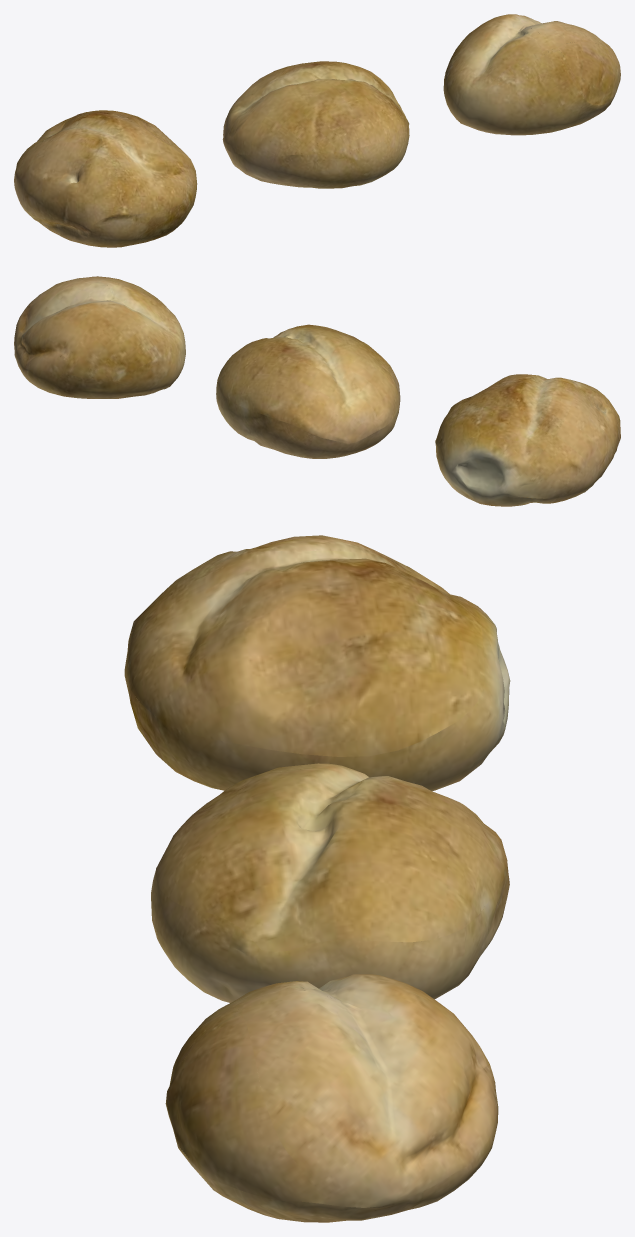
Rendered from hamburger_buns.gltf.
3 views of the same model, one above another, from view 1: azimuth 30°, elevation 25°; view 2: azimuth 150°, elevation 25°; view 3: azimuth 270°, elevation 25° (orthographic). The views are drawn at different scales.
Parts seen in each view (by area): view 1: hamburger_buns_01, hamburger_buns_02, hamburger_buns_03; view 2: hamburger_buns_01, hamburger_buns_02, hamburger_buns_03; view 3: hamburger_buns_01, hamburger_buns_02, hamburger_buns_03.
Part boxes in pixels (x1,y1,x2,y2): hamburger_buns_01: [14, 110, 197, 247]; hamburger_buns_02: [222, 61, 409, 188]; hamburger_buns_03: [443, 14, 620, 135]; hamburger_buns_01: [435, 374, 620, 506]; hamburger_buns_02: [216, 324, 400, 458]; hamburger_buns_03: [14, 276, 185, 398]; hamburger_buns_01: [124, 535, 510, 791]; hamburger_buns_02: [151, 763, 509, 1002]; hamburger_buns_03: [165, 974, 498, 1222].
Bounding box in the file's own units: 0.3972 × 0.0634 × 0.1138.
Materials: 1 (1 with a texture image).
